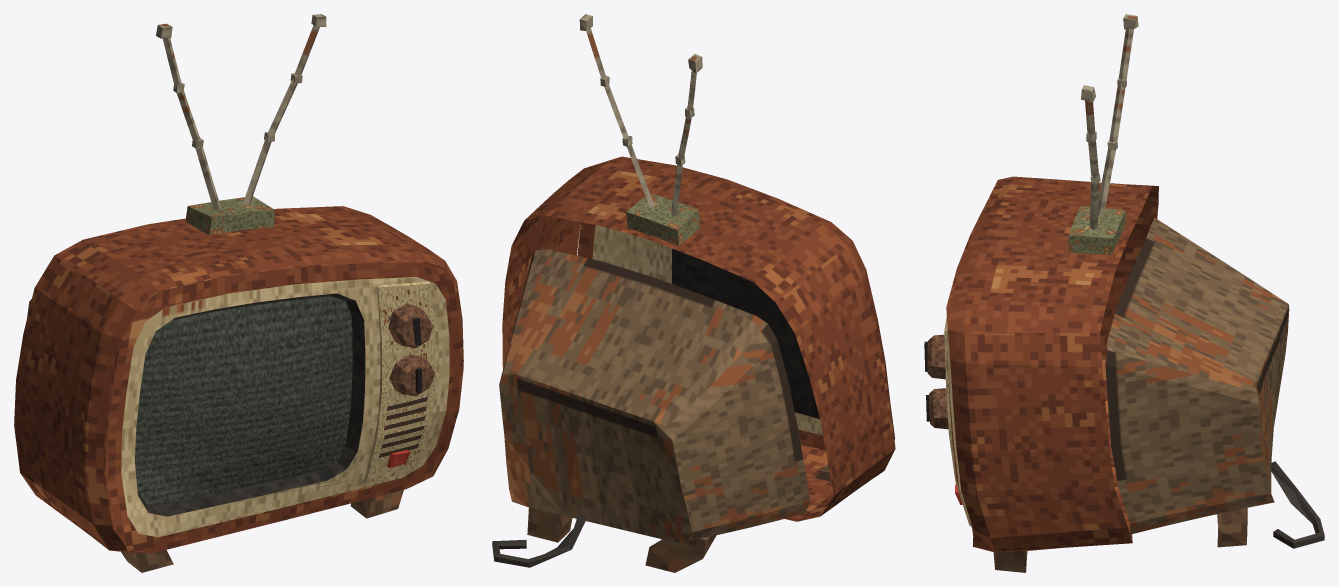
File: SM_OD02_OldTV.fbx
3 renders of one model, left to right at view 1: azimuth 30°, elevation 25°; view 2: azimuth 150°, elevation 25°; view 3: azimuth 270°, elevation 25°, orthographic. The views are drawn at different scales.
Visible parts, largest first — view 1: OD02_Body, OD02_Screen; view 2: OD02_Body; view 3: OD02_Body.
Boxes of the visible parts, left/top/right/bottom form: OD02_Body: left=14, top=14, right=463, bottom=572; OD02_Screen: left=135, top=296, right=352, bottom=505; OD02_Body: left=492, top=14, right=895, bottom=572; OD02_Body: left=924, top=14, right=1324, bottom=572.
Bounding box in the file's own units: 94.44 × 119 × 90.34.
